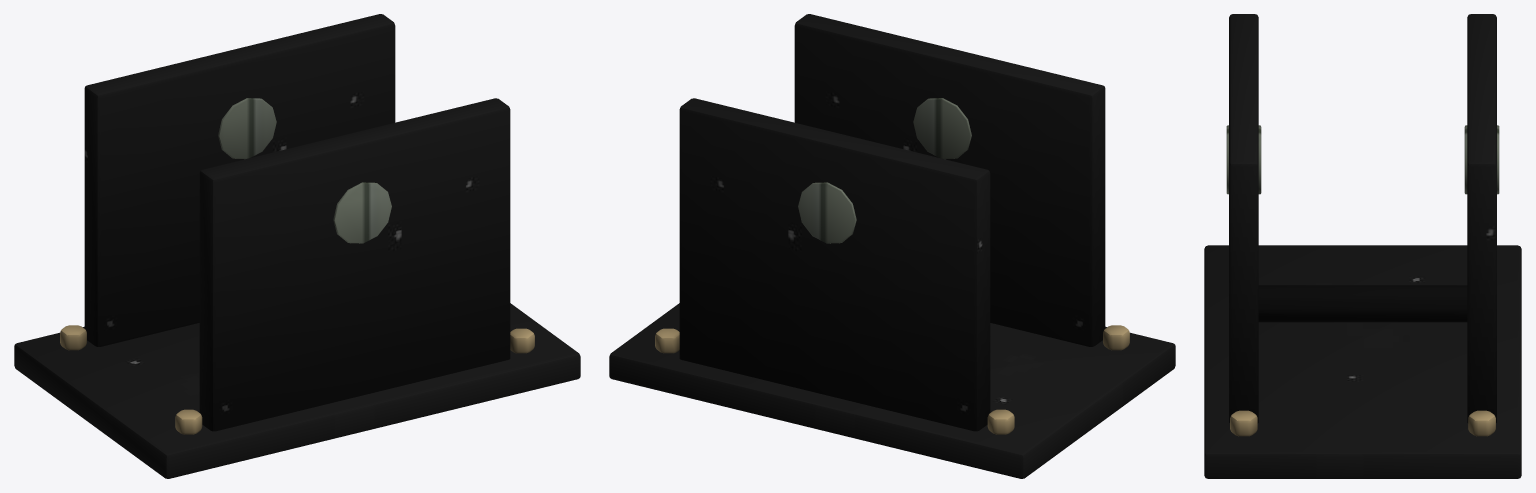
The model's file is mount.glb.
3 views of the same model, side by side, from view 1: azimuth 30°, elevation 25°; view 2: azimuth 150°, elevation 25°; view 3: azimuth 270°, elevation 25° (orthographic). The views are drawn at different scales.
Visible parts, largest first — view 1: boat_iron, boat_bulk, boat_brass; view 2: boat_iron, boat_bulk, boat_brass; view 3: boat_iron, boat_brass, boat_bulk.
Boxes of the visible parts, x1,y1,x2,y2 form: boat_iron: (14, 14, 580, 478); boat_bulk: (218, 98, 391, 243); boat_brass: (60, 325, 534, 434); boat_iron: (609, 14, 1175, 478); boat_bulk: (798, 98, 971, 243); boat_brass: (655, 325, 1129, 434); boat_iron: (1204, 14, 1521, 478); boat_brass: (1230, 410, 1495, 436); boat_bulk: (1226, 125, 1499, 194).
Size of the model in its own units: 0.5 by 0.32 by 0.32.
Materials: 3 (2 with a texture image).
